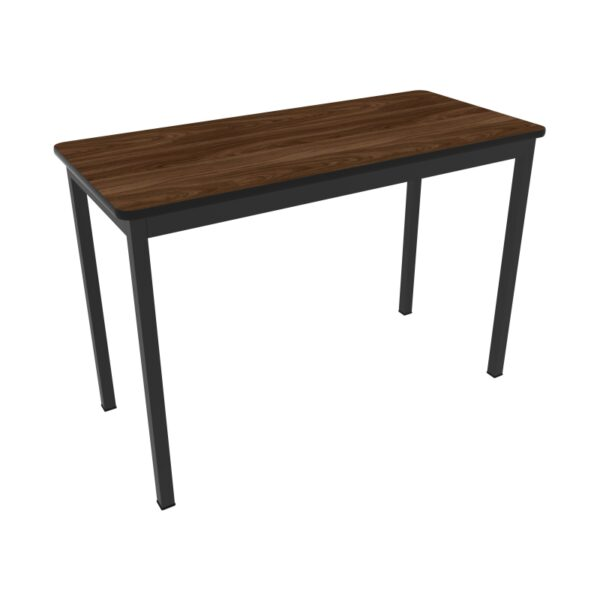m01: (53, 90, 548, 511)
